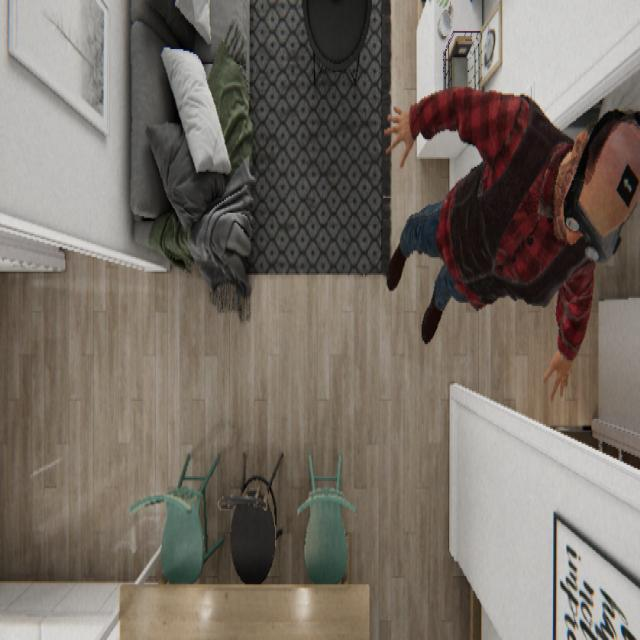Human: (382, 84, 638, 401)
UnityLogo: (616, 160, 638, 210)
